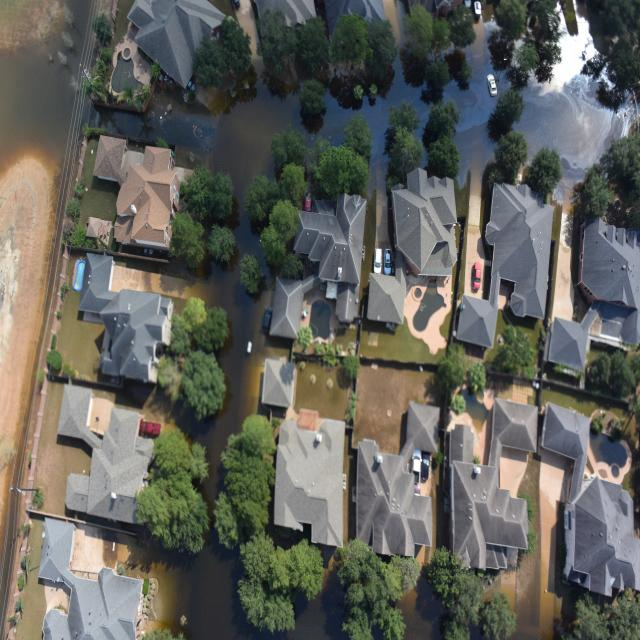fire: (171, 265, 289, 516), (210, 77, 314, 230), (519, 73, 631, 179), (210, 86, 291, 204), (89, 94, 216, 151), (359, 73, 416, 194), (285, 545, 349, 640), (444, 25, 500, 131), (190, 551, 246, 638), (397, 570, 444, 640), (317, 89, 354, 144), (183, 112, 214, 162), (105, 112, 140, 135)
